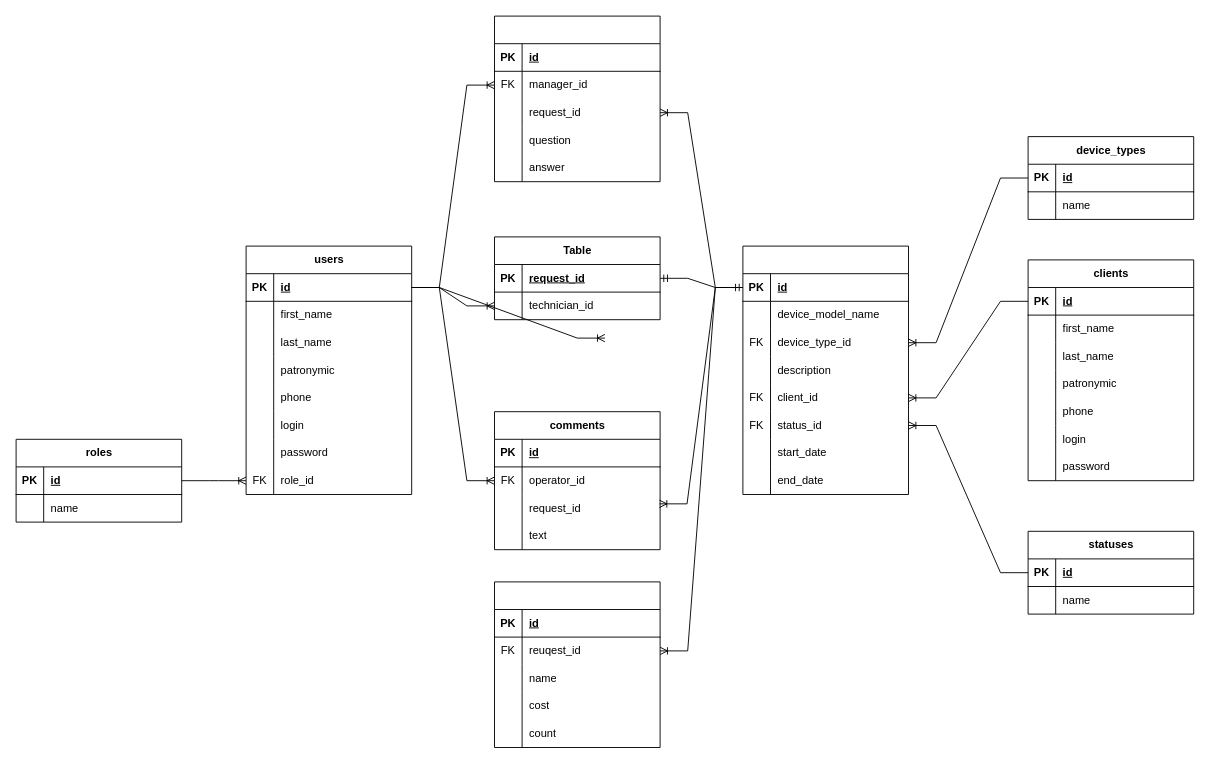
This 1210x764 diagram has some shape labels left out. Here are the shapes that lost their labels. From the top down, the box of each, then its label:
(494, 15, 660, 182): help_requests
(742, 245, 908, 494): requests
(494, 581, 660, 748): spares
